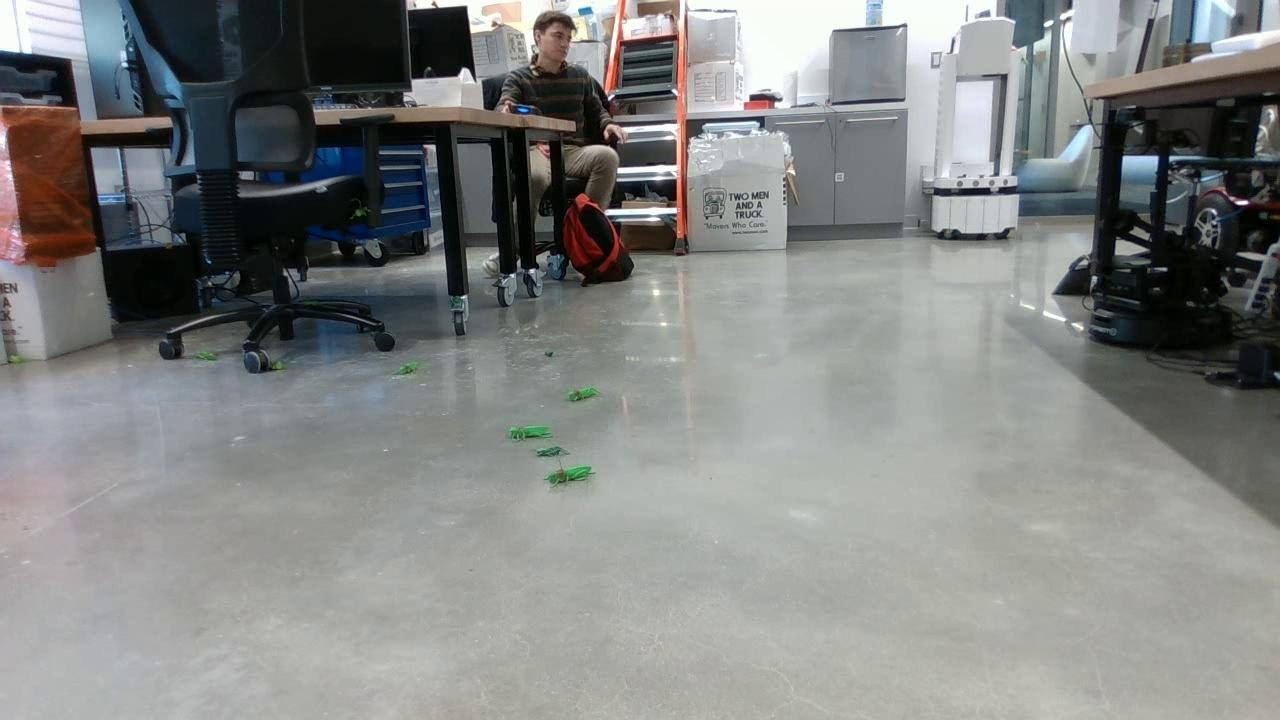grasshopper: (545, 466, 597, 484), (512, 427, 551, 443), (566, 389, 600, 403), (398, 362, 422, 376), (200, 350, 220, 363), (271, 360, 290, 372)
